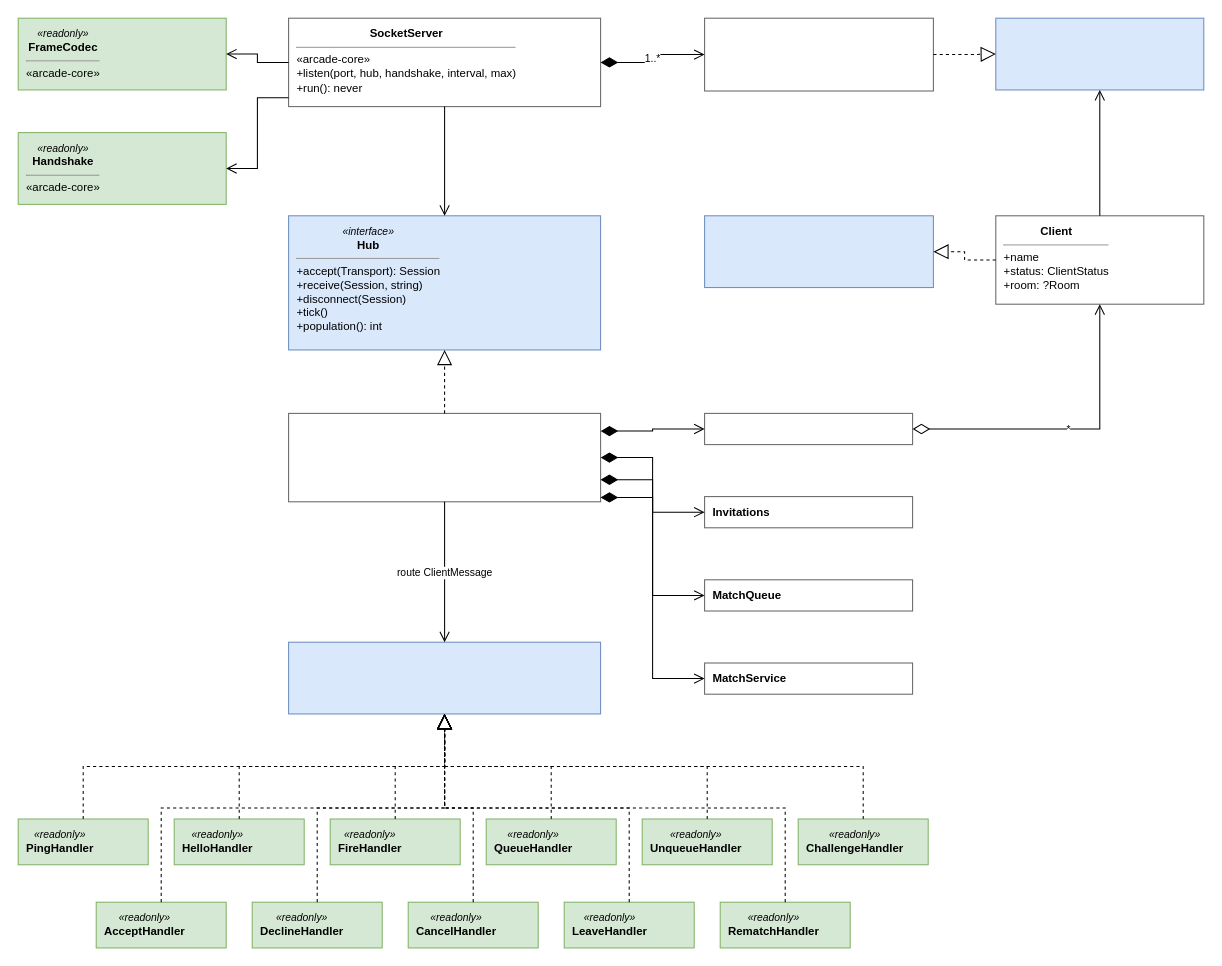
Image size: 1222x966. Some labels were removed from this diagram. The shapes that lost their labels are listed below. From the top down, each one's centre as x and y in pixels, then its label:
the point at 818,54: Connection «arcade-core» +send(json): void
the point at 1099,53: «interface» Transport +send(json): void
the point at 818,251: «interface» Session +idleFor(now): int
the point at 808,428: Lobby
the point at 444,457: GameHub +create(): GameHub +accept / receive / disconnect +tick()
the point at 444,677: «interface» MessageHandler +handle(Client, msg): void
